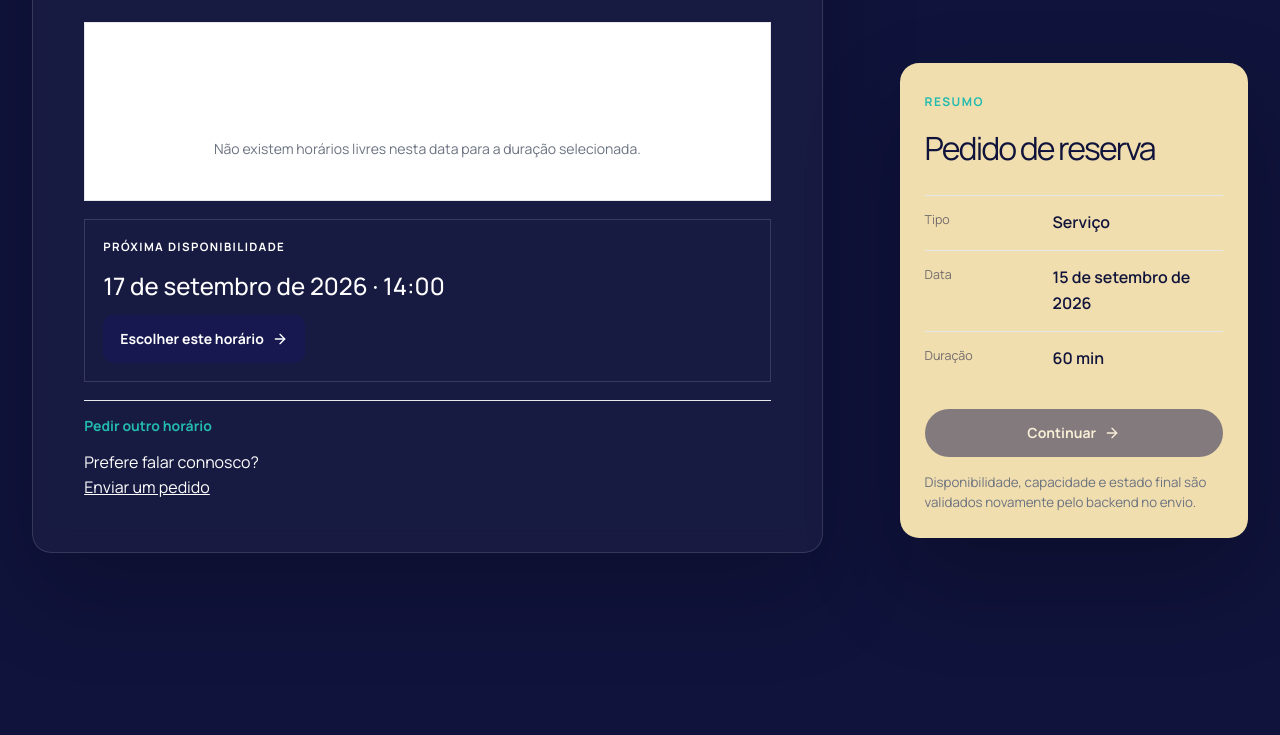
Test: public booking no-slot recovery › finds and selects the next real availability while preserving an enquiry fallback
(page scrolled)
Expected: the text "17 de setembro de 2026 · 14:00" is shown, x1=103 y1=269 x2=445 y2=302
Click the button "Escolher este horário": {"x": 204, "y": 339} x1=103 y1=315 x2=305 y2=363
(page scrolled)
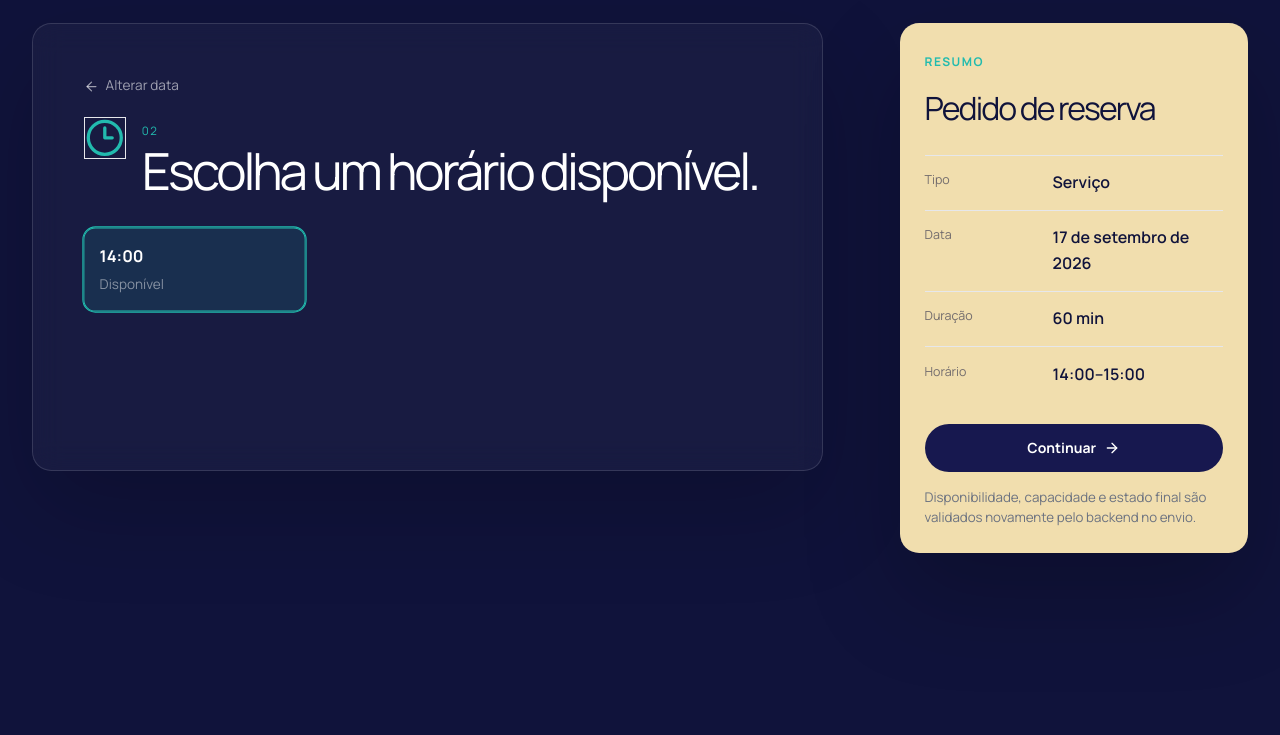
Expected: the button "Continuar" is enabled, x1=924 y1=424 x2=1223 y2=472
